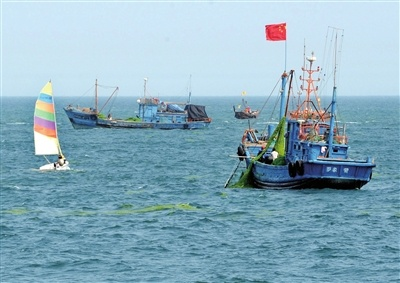fanchuan: (28, 78, 74, 173)
otherboat: (234, 27, 371, 192), (61, 70, 210, 131), (232, 91, 262, 122)
